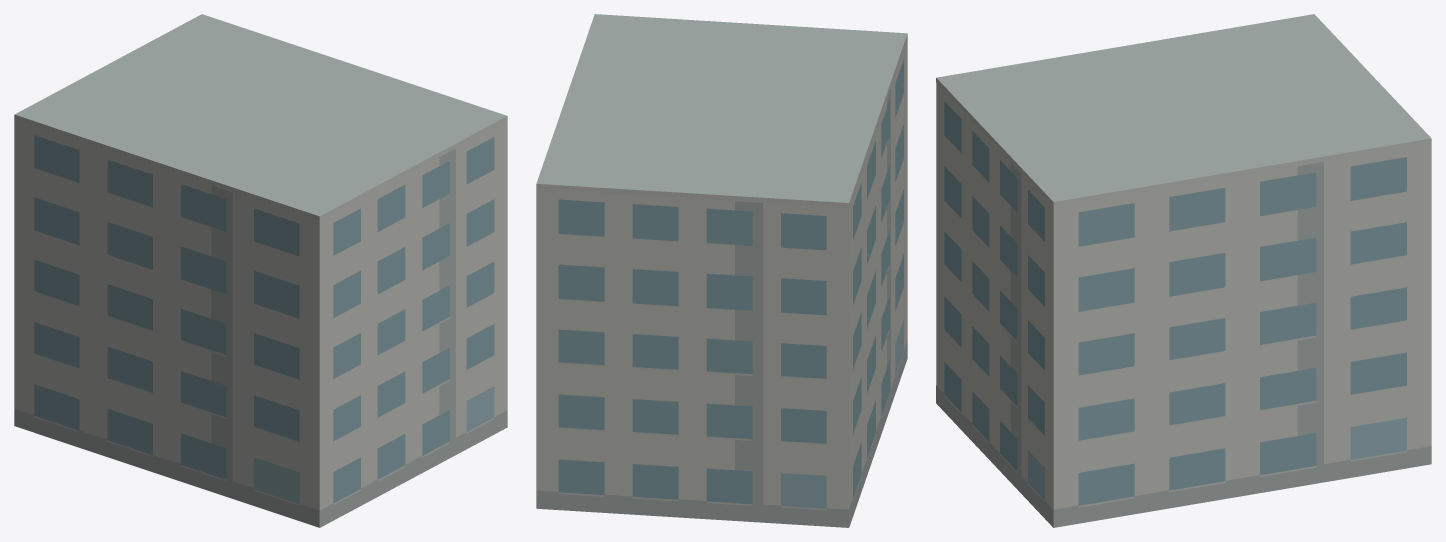
The model's file is residential-da2492ec-0912-4a1b-9655-5b39037d8168.glb.
3 renders of one model, left to right at view 1: azimuth 30°, elevation 25°; view 2: azimuth 150°, elevation 25°; view 3: azimuth 270°, elevation 25°, orthographic. The views are drawn at different scales.
Visible parts, largest first — view 1: residential-da2492ec-0912-4a1b-9655-5b39037d8168.tmp; view 2: residential-da2492ec-0912-4a1b-9655-5b39037d8168.tmp; view 3: residential-da2492ec-0912-4a1b-9655-5b39037d8168.tmp.
Part boxes in pixels (x1=…): residential-da2492ec-0912-4a1b-9655-5b39037d8168.tmp: x1=14, y1=14, x2=507, y2=527; residential-da2492ec-0912-4a1b-9655-5b39037d8168.tmp: x1=536, y1=14, x2=907, y2=527; residential-da2492ec-0912-4a1b-9655-5b39037d8168.tmp: x1=936, y1=14, x2=1431, y2=527.
Bounding box in the file's own units: 18.89 × 15.25 × 21.03.
